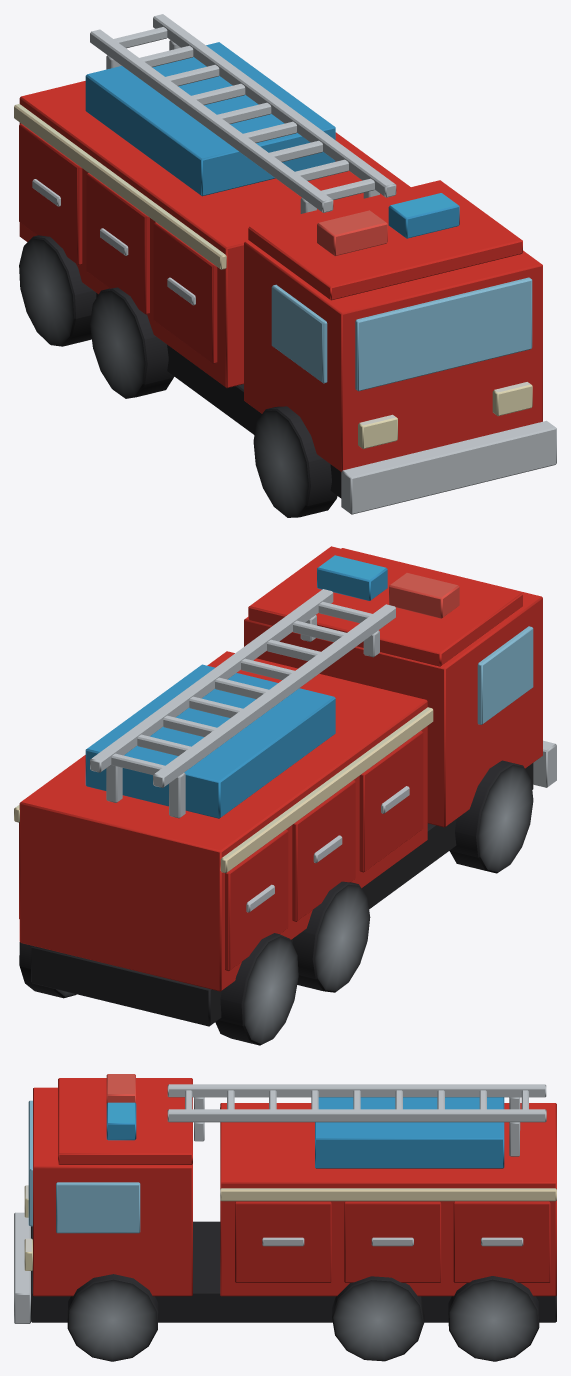
The model's file is FireTruck.glb.
The picture shows the model from 3 angles, top to bottom: view 1: azimuth 30°, elevation 25°; view 2: azimuth 150°, elevation 25°; view 3: azimuth 270°, elevation 25°; orthographic projection. The views are drawn at different scales.
Parts seen in each view (by area): view 1: FireTruck; view 2: FireTruck; view 3: FireTruck.
Part boxes in pixels (x1,y1,x2,y2): FireTruck: (14,14,556,517); FireTruck: (14,546,556,1045); FireTruck: (14,1074,556,1361).
Bounding box in the file's own units: 10.01 × 11.51 × 25.81.
